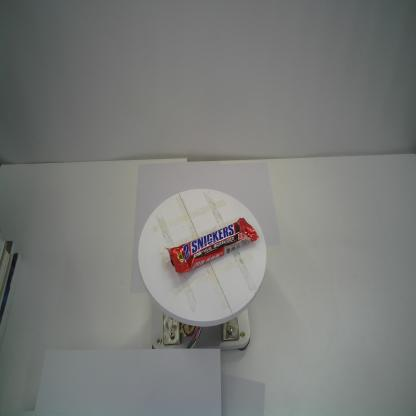Chocolate: (166, 217, 258, 274)
